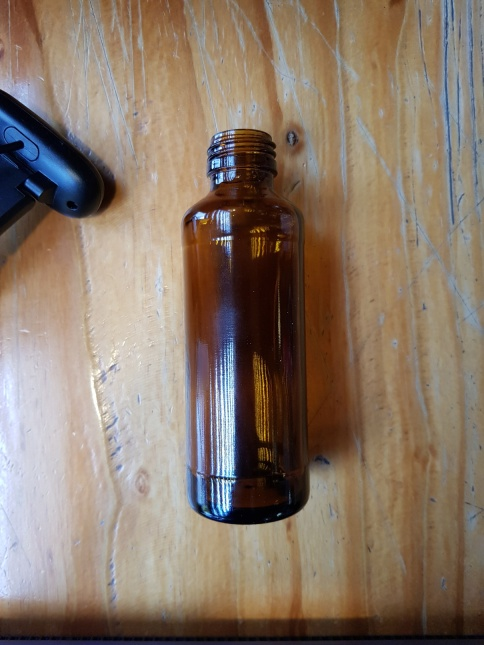Glass: (182, 128, 316, 527)
